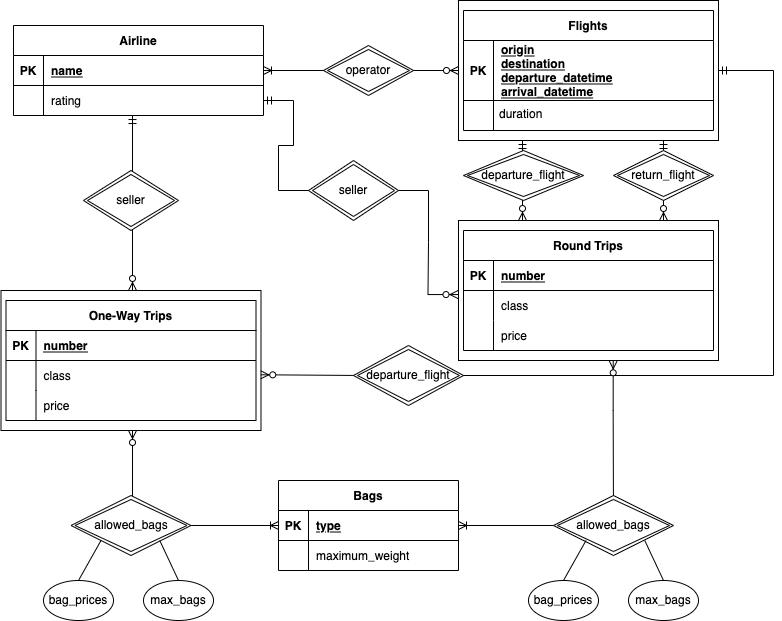attribute: (528, 579, 600, 621), (143, 580, 216, 621), (628, 580, 700, 621), (43, 580, 114, 621)
entity: (13, 24, 266, 118), (277, 480, 461, 571)
weakentity: (457, 220, 722, 362), (2, 288, 263, 432), (457, 1, 723, 142)
weakrelationship: (71, 496, 192, 557), (555, 496, 674, 555), (353, 345, 464, 408), (461, 151, 584, 202), (83, 171, 181, 231), (308, 161, 400, 222), (613, 151, 715, 202), (322, 45, 413, 97)
